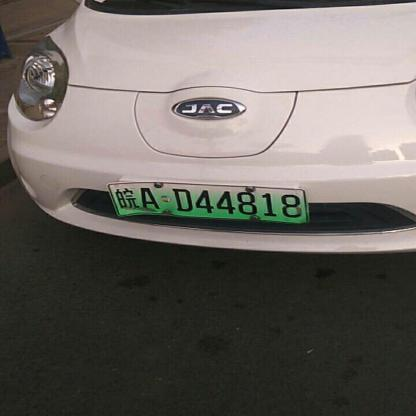lp: (108, 185, 308, 221)
